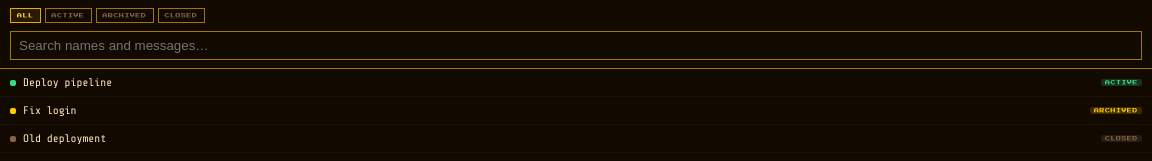
Scenario: ConversationList › reports search failures rather than claiming there are no matches
Type "needle" into the search field with placeholder "Search names and messages…".
click(576, 46); type("needle")  # box [10,31,1142,60]
Wait 250 ms
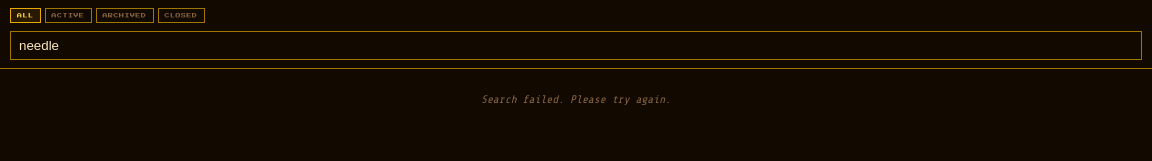
Expected: the message "Search failed. Please try again." is shown, [481,93,671,106]
